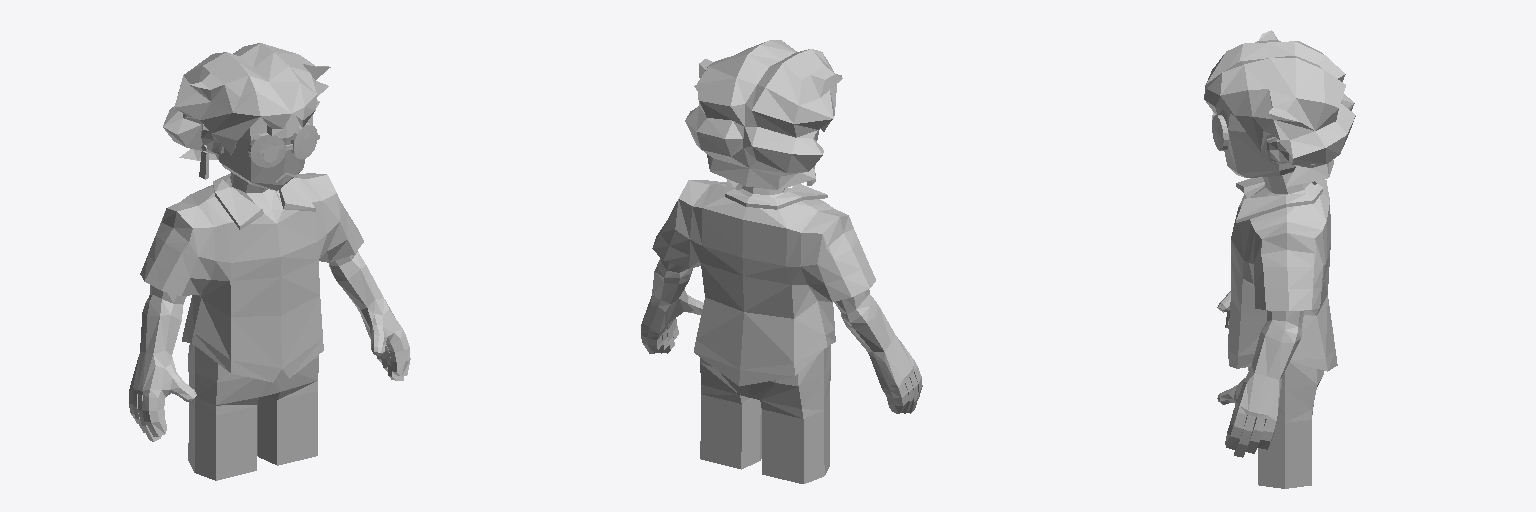
The model's file is Orange Cloud.obj.
The picture shows the model from 3 angles: view 1: azimuth 30°, elevation 25°; view 2: azimuth 150°, elevation 25°; view 3: azimuth 270°, elevation 25°; orthographic projection.
Parts seen in each view (by area): view 1: Cube.005, Cube.004, Cube.001, Plane; view 2: Cube.005, Cube.001, Cube.004; view 3: Cube.005, Cube.001, Cube.004.
Boxes of the visible parts, box(x1,y1,x2,y2) form: Cube.005: box(140, 173, 363, 480); Cube.004: box(129, 114, 410, 441); Cube.001: box(163, 43, 330, 160); Plane: box(248, 123, 319, 182); Cube.005: box(652, 179, 875, 483); Cube.001: box(685, 40, 842, 189); Cube.004: box(641, 129, 922, 413); Cube.005: box(1228, 177, 1337, 488); Cube.001: box(1204, 30, 1355, 186); Cube.004: box(1217, 110, 1310, 457).
Size of the model in its own units: 5.79 by 8.56 by 2.89.